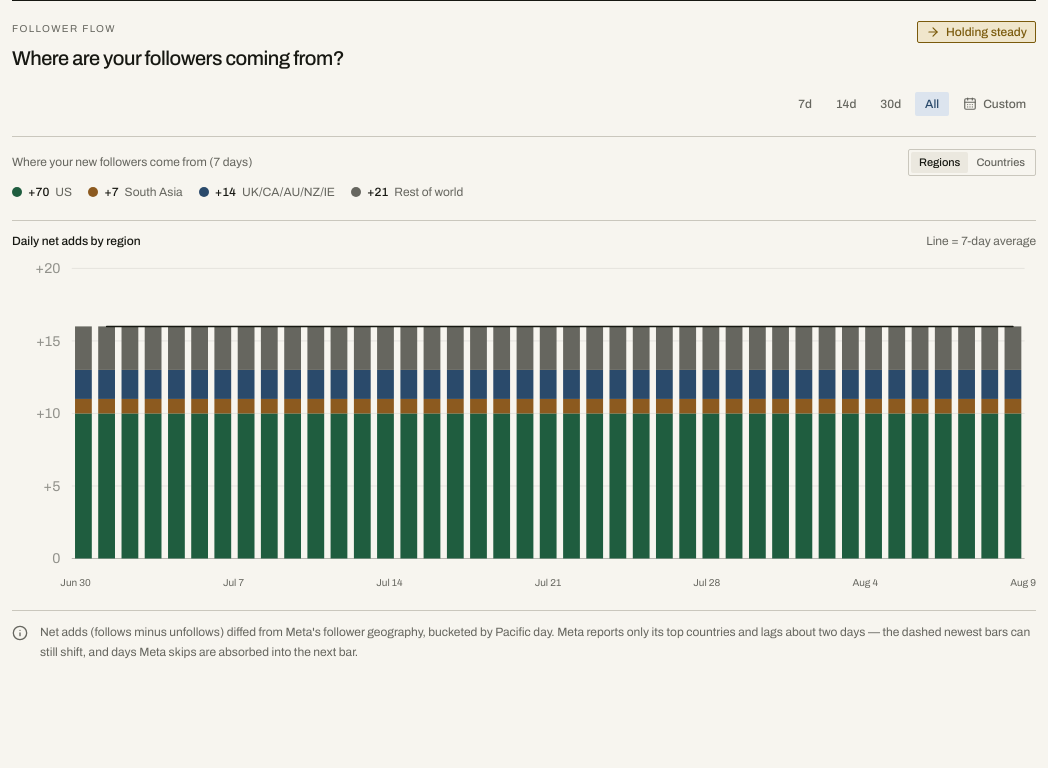
it: Follower flow country mode › shows ONLY that country when its legend chip is clicked
Click the button "countries" at [1001, 162], box [968,152,1033,172]
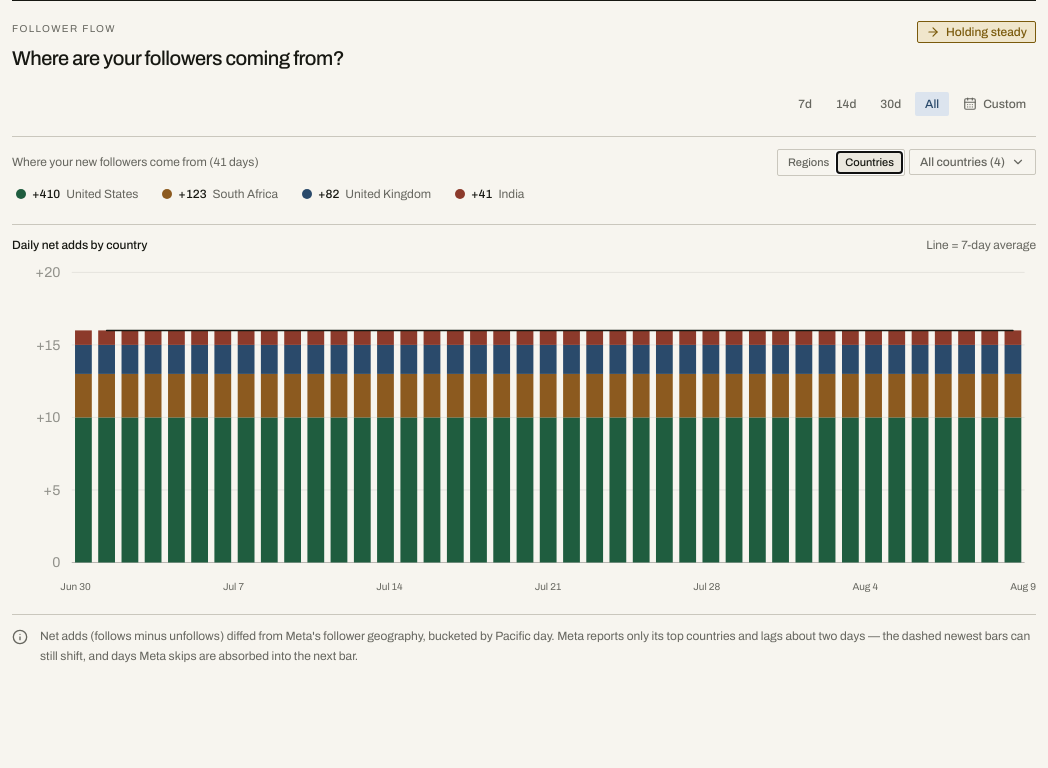
Click the button "+123 South Africa" at [220, 194], box [158,184,282,204]
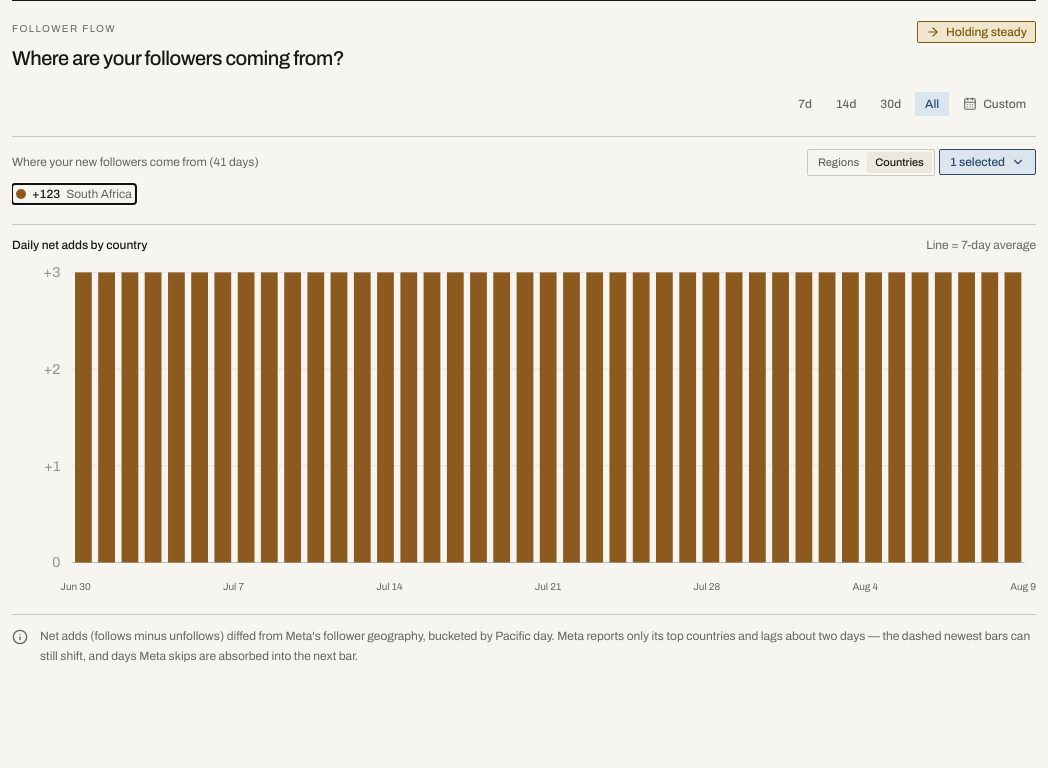
Expected: the button "+123 South Africa" is shown, [12,184,136,204]
Expected: the button "United States" is gone
Expected: the button "1 selected" is shown, [939,149,1036,175]
